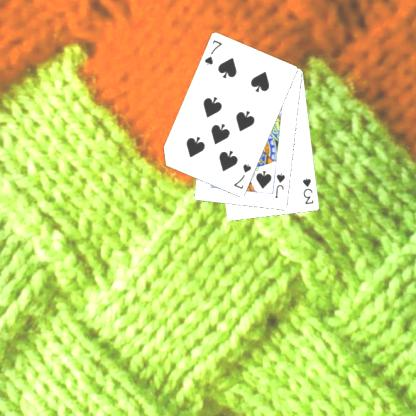3S: (300, 176, 315, 206)
7S: (231, 161, 253, 191), (202, 37, 224, 67)
JS: (272, 170, 287, 200)
